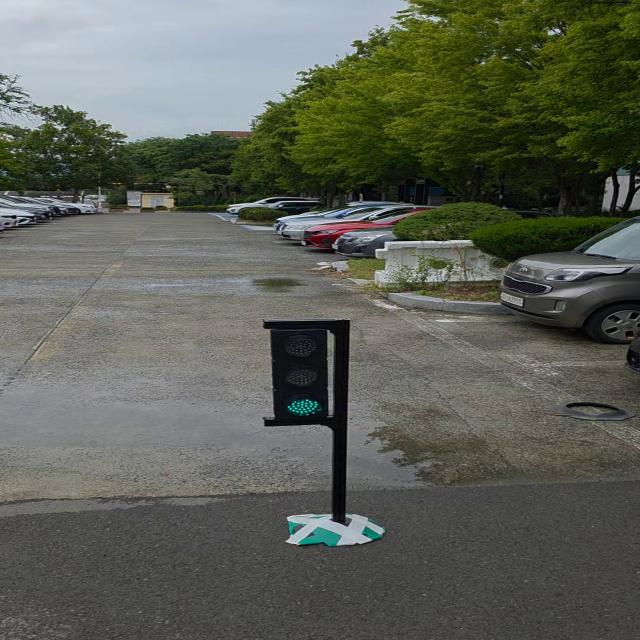green: (270, 322, 342, 422)
